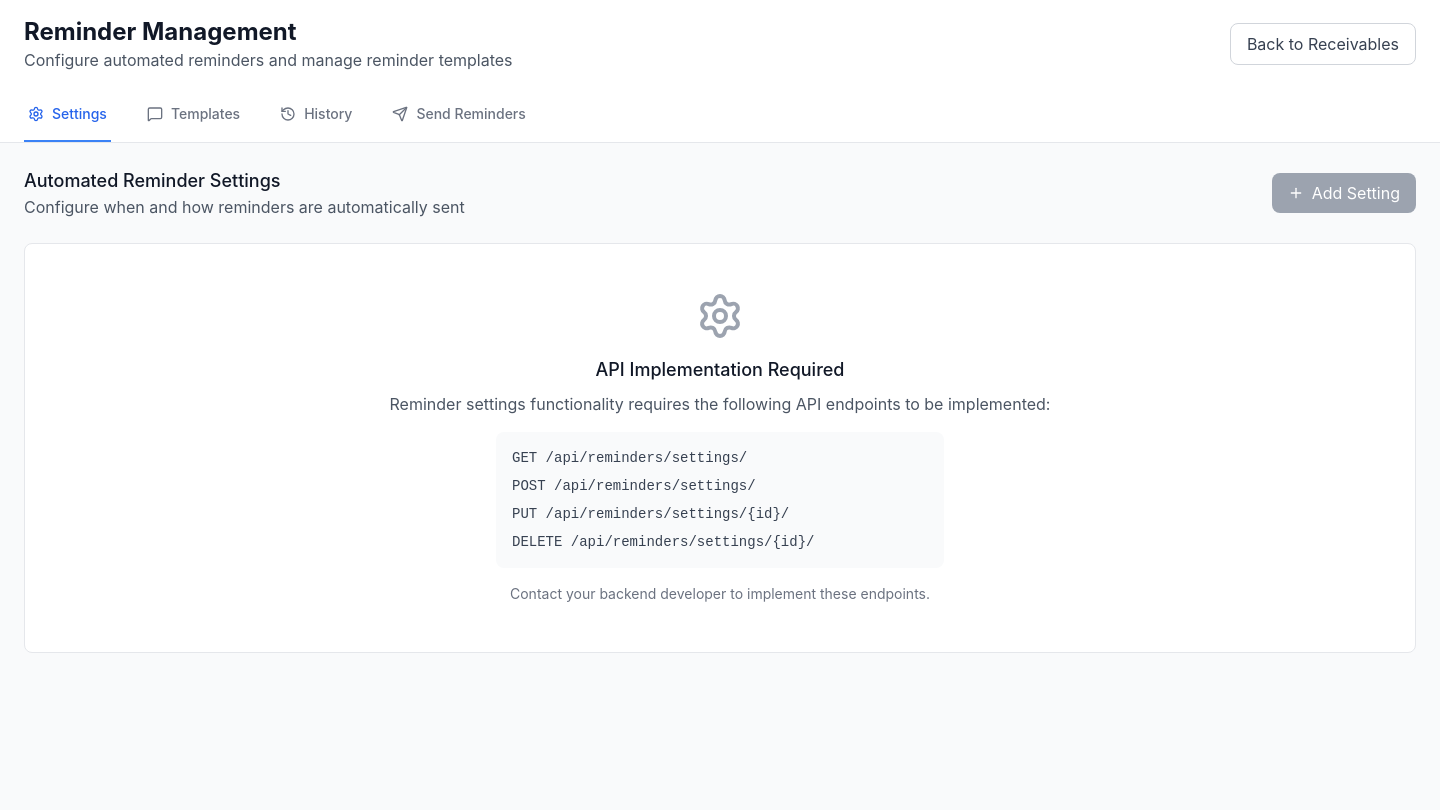
Test: ReminderManagement › loads overdue receivables in send reminders tab
Note: Click on Send Reminders tab
Click the button "Send Reminders": (459, 115) [388, 88, 530, 142]
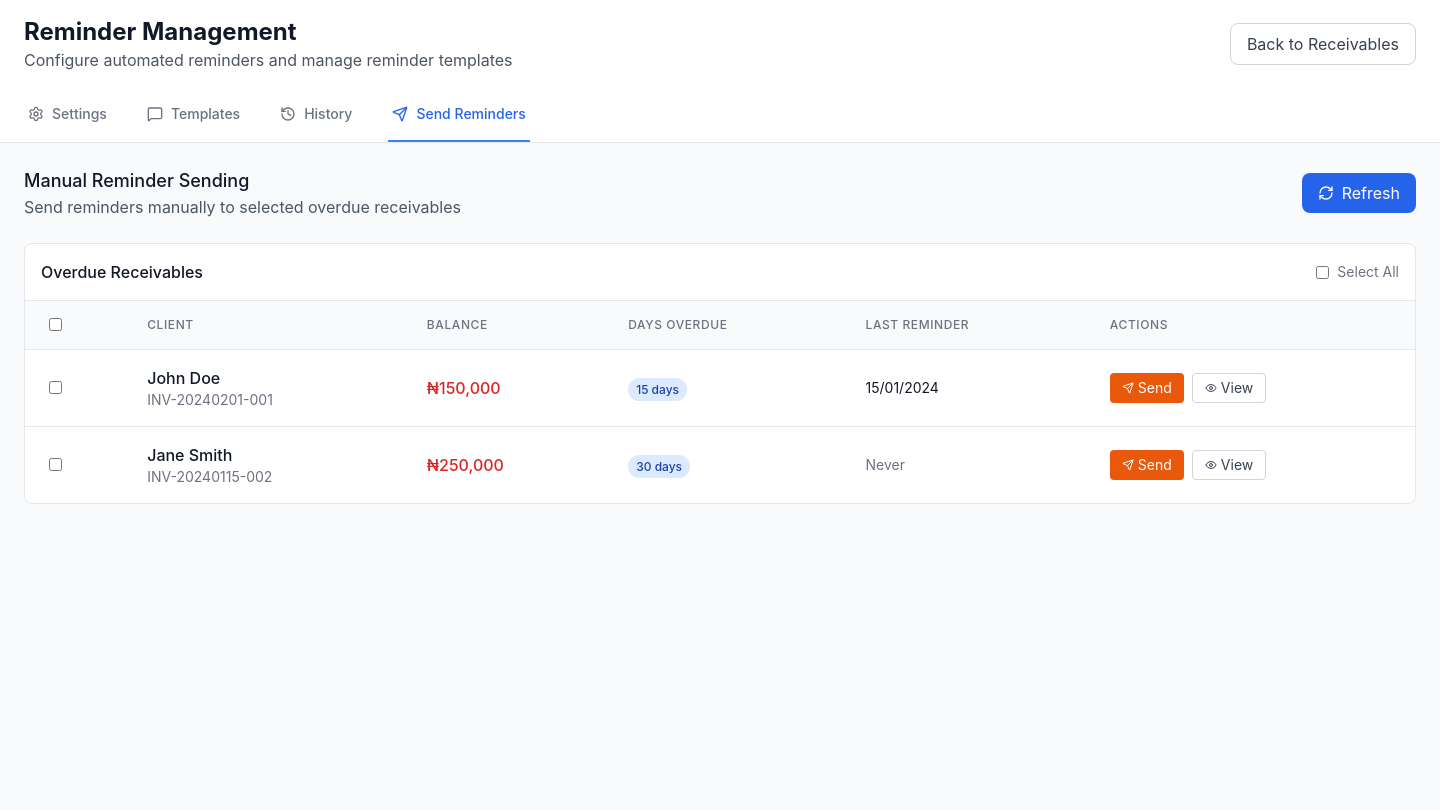
Check: the heading "Manual Reminder Sending" is shown, box [24, 170, 249, 191]
Check: the text "Send reminders manually to selected overdue receivables" is shown, box [24, 195, 461, 219]
Check: the text "John Doe" is shown, box [147, 368, 220, 388]
